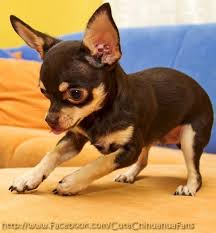chihuahua: (9, 3, 213, 199)
